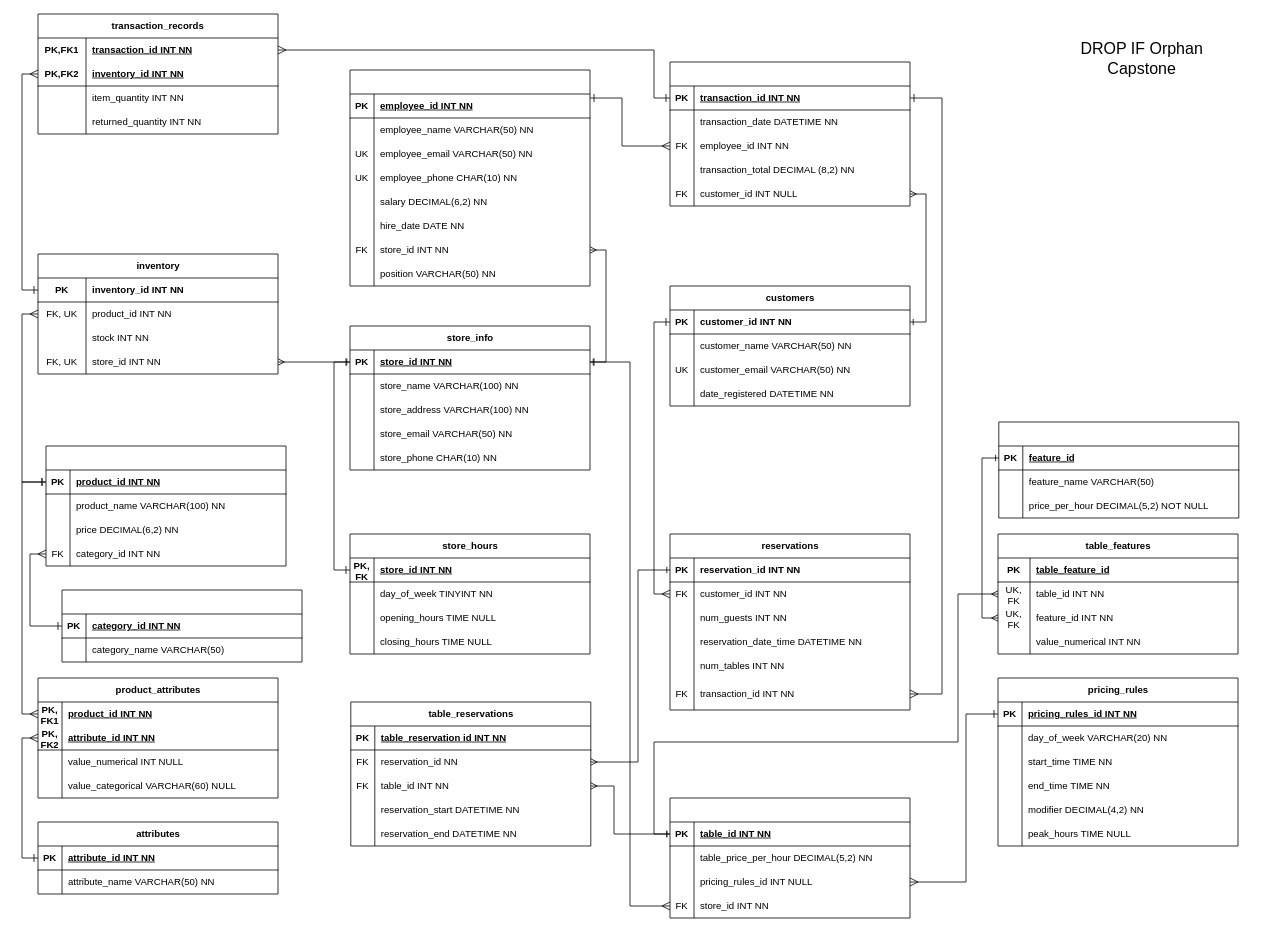
Image size: 1276x932. Some labels were removed from this diagram. Here are the shapes that lost their labels. From the top down, the box of each, then its label:
(669, 61, 910, 206): transactions
(349, 69, 590, 286): employees
(998, 421, 1239, 518): features
(45, 445, 286, 566): products
(61, 589, 302, 662): categories
(669, 797, 910, 918): tables
